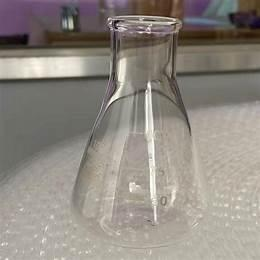Titrarion: (68, 9, 207, 240)
